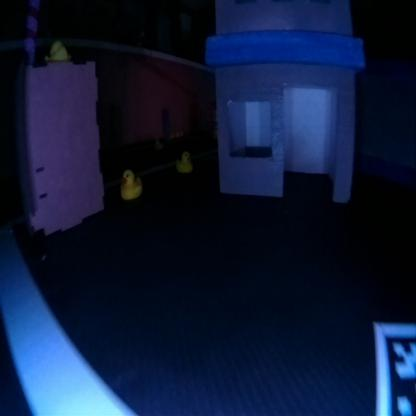Duckie: (121, 169, 142, 198), (45, 41, 68, 62), (176, 152, 191, 172)
QR code: (374, 322, 414, 414)
